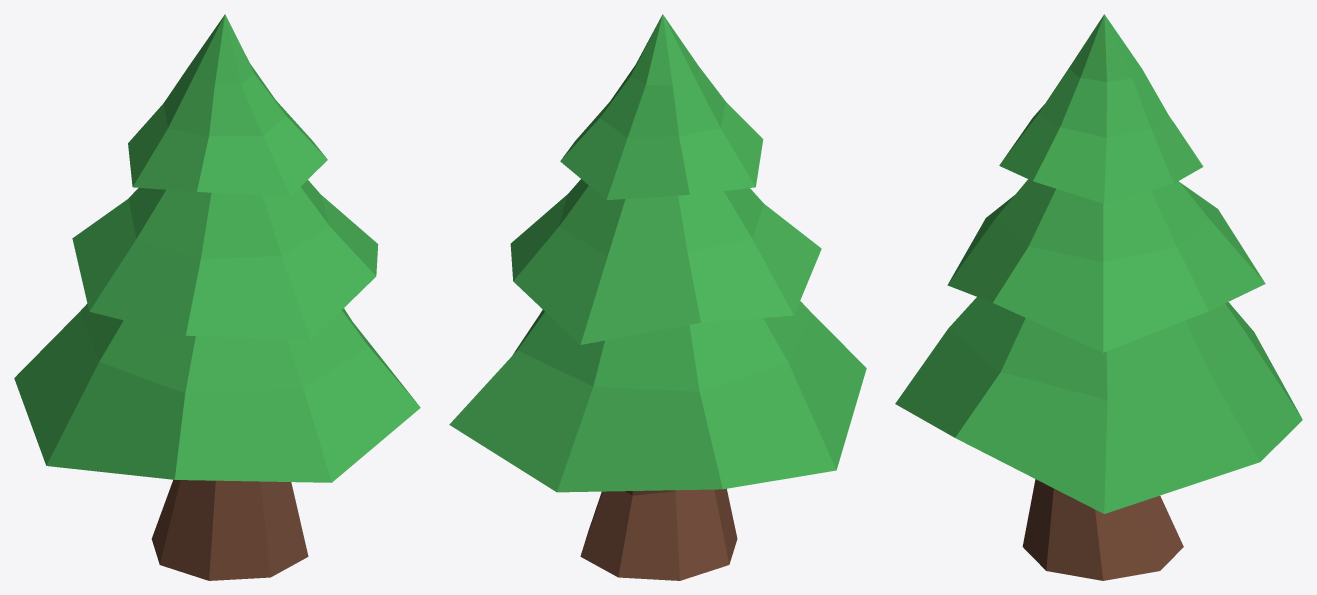
File: Pine_Tree_Green.fbx
The picture shows the model from 3 angles, left to right: view 1: azimuth 30°, elevation 25°; view 2: azimuth 150°, elevation 25°; view 3: azimuth 270°, elevation 25°; orthographic projection.
Parts seen in each view (by area): view 1: Pine_Tree_Green_Geo; view 2: Pine_Tree_Green_Geo; view 3: Pine_Tree_Green_Geo.
Part boxes in pixels (x1,y1,x2,y2): Pine_Tree_Green_Geo: (14,14,420,580); Pine_Tree_Green_Geo: (449,14,866,580); Pine_Tree_Green_Geo: (895,14,1302,580).
Size of the model in its own units: 111 by 163 by 113.
